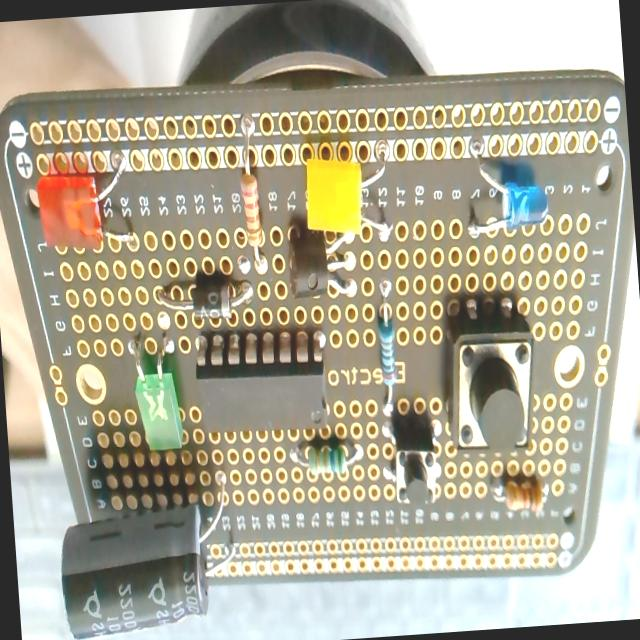Electrolytic capacitor: (54, 466, 243, 640)
IC: (192, 326, 336, 439)
diode: (159, 274, 257, 322)
led: (34, 146, 140, 264), (298, 132, 402, 251), (456, 132, 552, 250), (134, 367, 185, 452)
resistor: (236, 114, 266, 274), (372, 295, 402, 413), (288, 435, 363, 475), (492, 474, 547, 516)
switch: (441, 300, 540, 457), (386, 422, 444, 509)
transistor: (284, 220, 360, 310)
